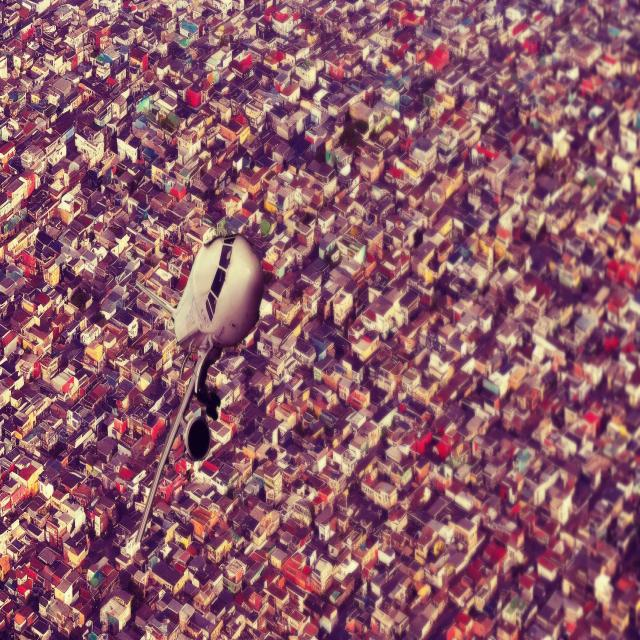airplane: (120, 230, 264, 560)
